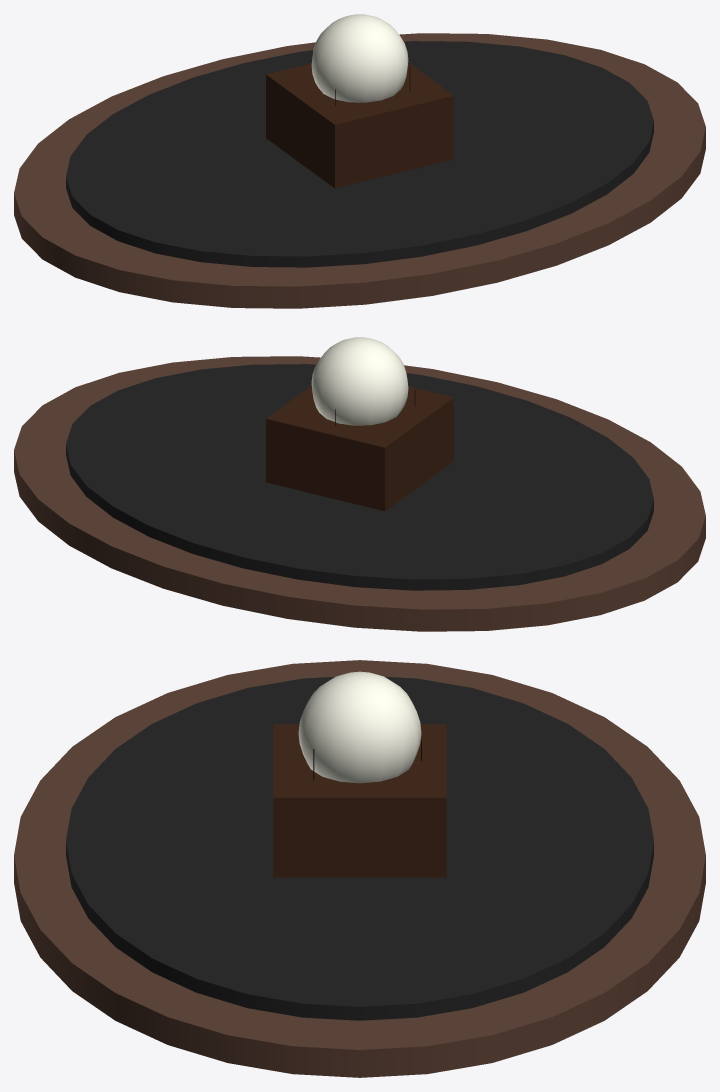
File: sizzling-brownie.glb
The picture shows the model from 3 angles, top to bottom: view 1: azimuth 30°, elevation 25°; view 2: azimuth 150°, elevation 25°; view 3: azimuth 270°, elevation 25°; orthographic projection. The views are drawn at different scales.
Size of the model in its own units: 2.4 by 0.59 by 1.8.
